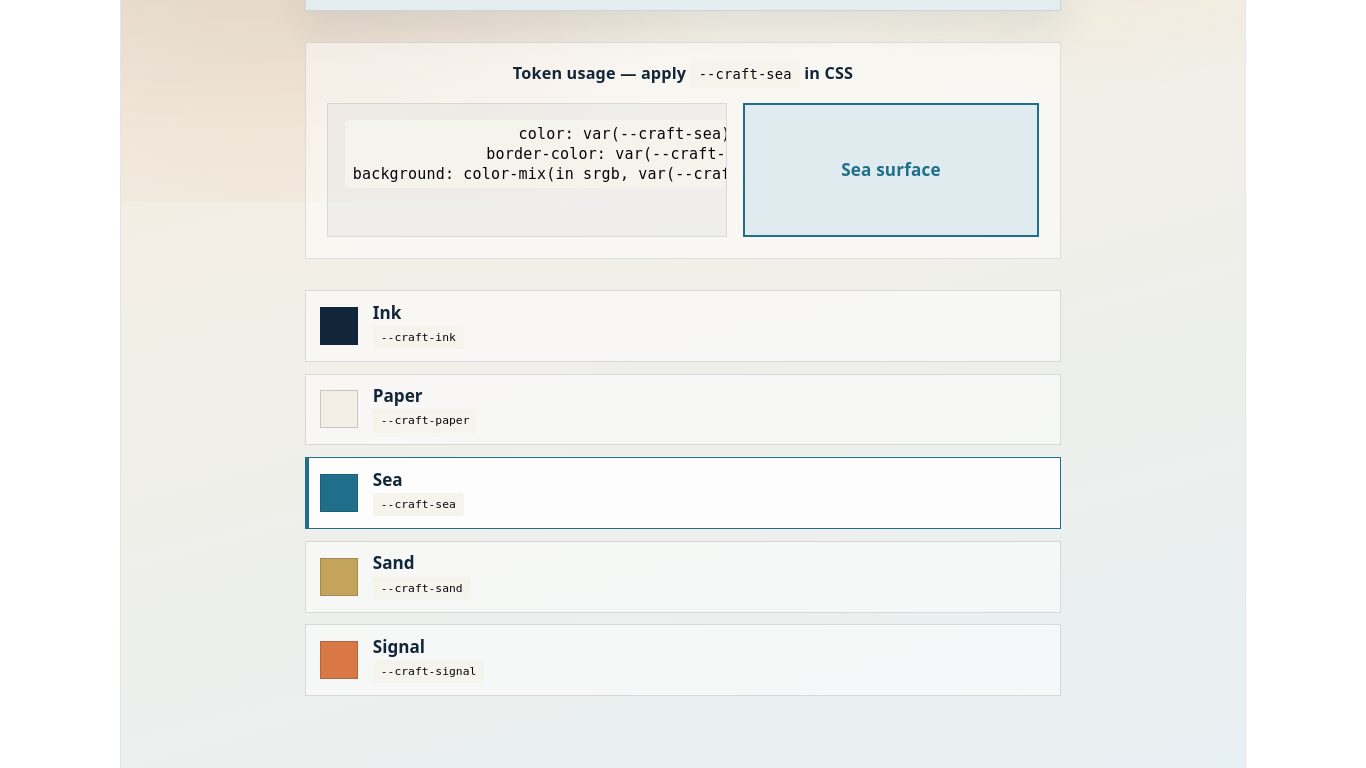
Scenario: CraftTokensDemo › shows a live CSS usage example for the active token
(page scrolled)
Expected: the text "Token usage — apply --craft-sea in CSS" is shown, [513,61,853,88]
Expected: the text "color: var(--craft-sea);" is shown, [353,124,727,183]
Click the button with aria-label "Select Signal token --craft-signal": (338, 660) [305,624,1061,696]
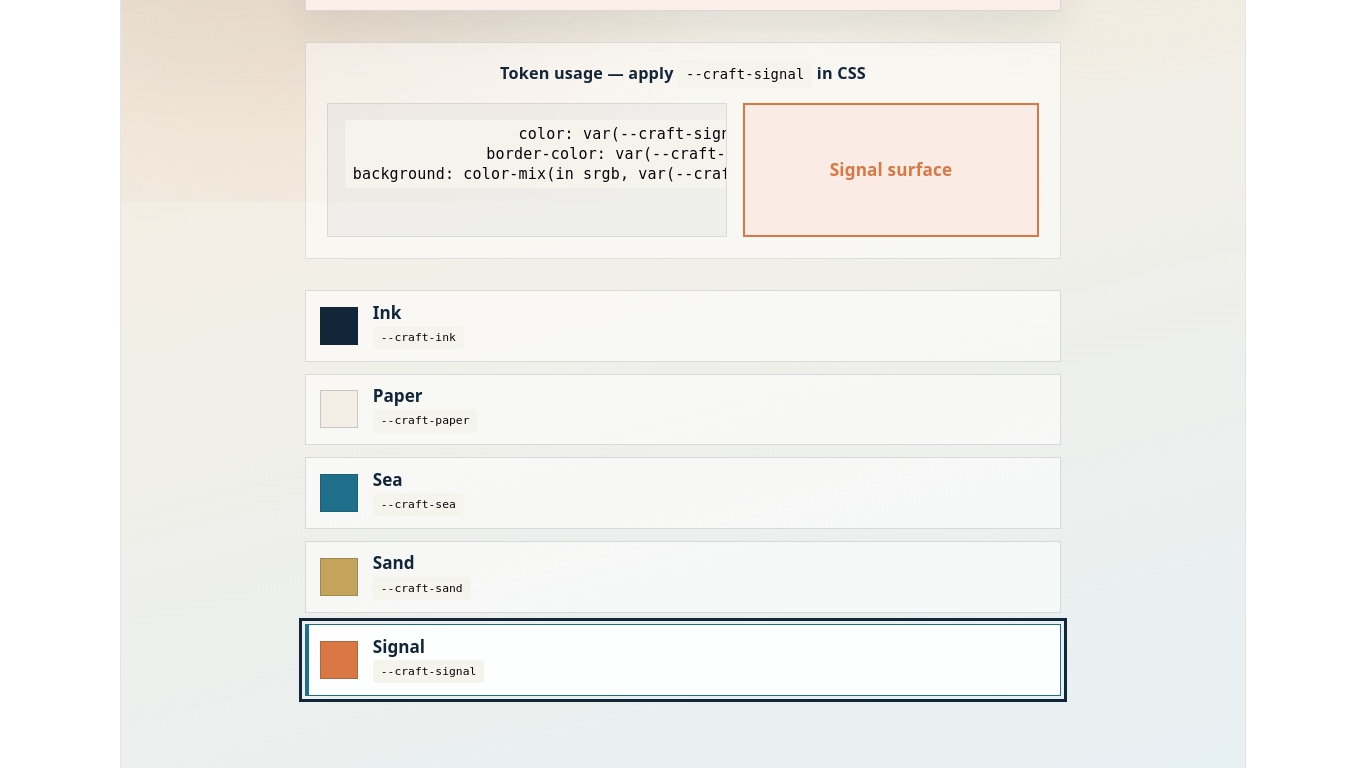
Expected: the text "Token usage — apply --craft-signal in CSS" is shown, [500,61,866,88]
Expected: the text "border-color: var(--craft-signal);" is shown, [353,124,727,183]
Expected: the element with test id "craft-token-usage-preview" reads "Signal surface", [743,103,1039,237]
